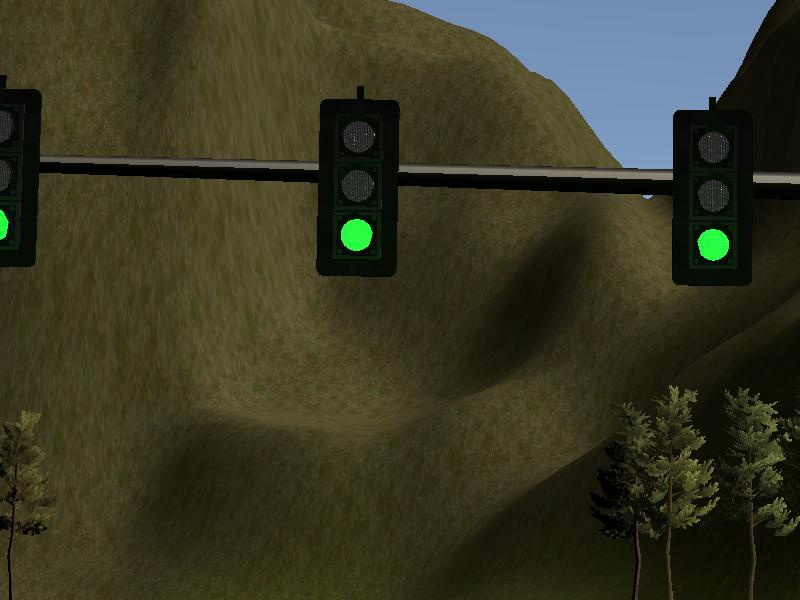green_light: (321, 100, 396, 273), (676, 114, 749, 283)
